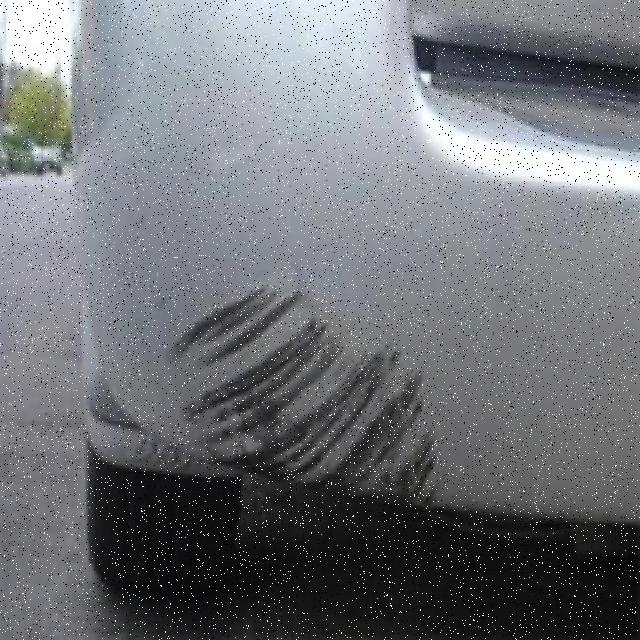damage: (171, 279, 442, 496)
